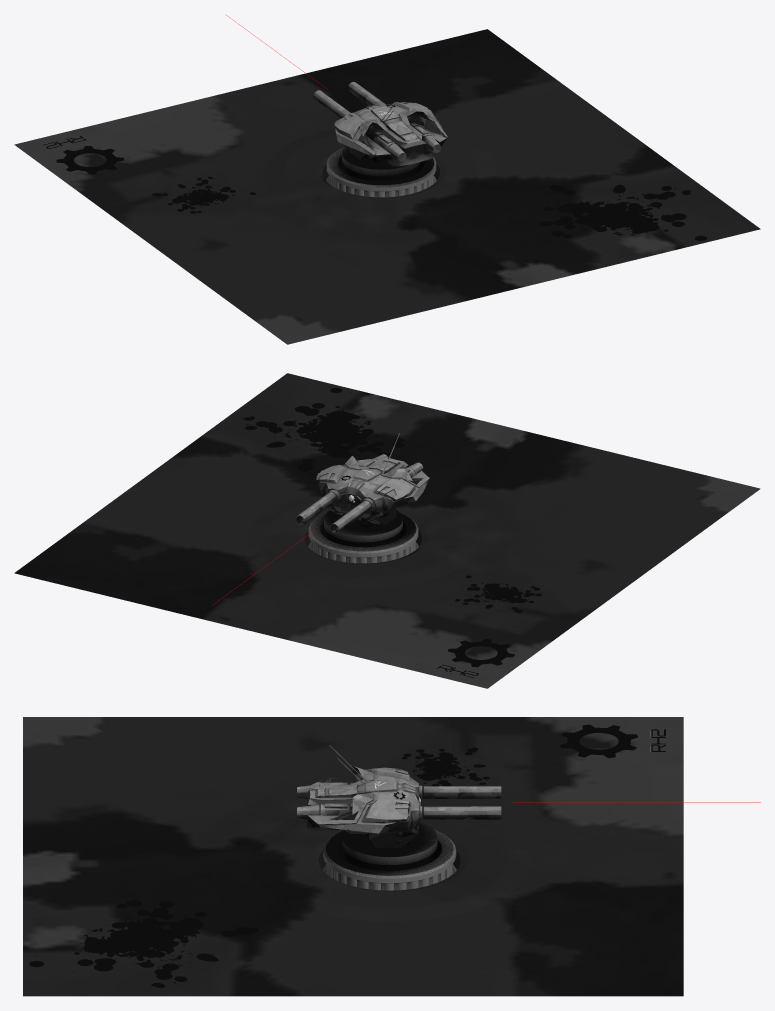
The model's file is rh2_turret.fbx.
3 renders of one model, top to bottom at view 1: azimuth 30°, elevation 25°; view 2: azimuth 150°, elevation 25°; view 3: azimuth 270°, elevation 25°, orthographic. The views are drawn at different scales.
Parts seen in each view (by area): view 1: Circle.002, Circle.001, Plane.005, Circle, Circle.005, Plane.004, Plane.003, Cylinder; view 2: Circle.002, Circle.001, Circle, Plane.005, Circle.005, Plane.004, Plane.003, Cylinder; view 3: Circle.002, Circle.001, Circle, Plane.005, Circle.005, Plane.004, Plane.003, Cylinder.
Part boxes in pixels (x1,y1,x2,y2): Circle.002: (14,29,760,344); Circle.001: (334,102,447,167); Plane.005: (539,184,706,242); Circle: (326,145,436,197); Circle.005: (313,81,441,161); Plane.004: (152,176,255,213); Plane.003: (42,135,124,174); Cylinder: (329,176,433,197); Circle.002: (14,373,760,688); Circle.001: (316,456,429,525); Circle: (308,510,418,563); Plane.005: (243,388,404,471); Circle.005: (295,454,423,533); Plane.004: (455,575,542,613); Plane.003: (436,639,514,678); Cylinder: (311,542,415,563); Circle.002: (23,717,683,996); Circle.001: (306,766,420,848); Circle: (323,821,456,890); Plane.005: (29,900,258,988); Circle.005: (297,784,501,821); Plane.004: (402,747,489,786); Plane.003: (559,724,665,758); Cylinder: (326,864,452,890).
Size of the model in its own units: 15.91 by 3.56 by 17.95.
